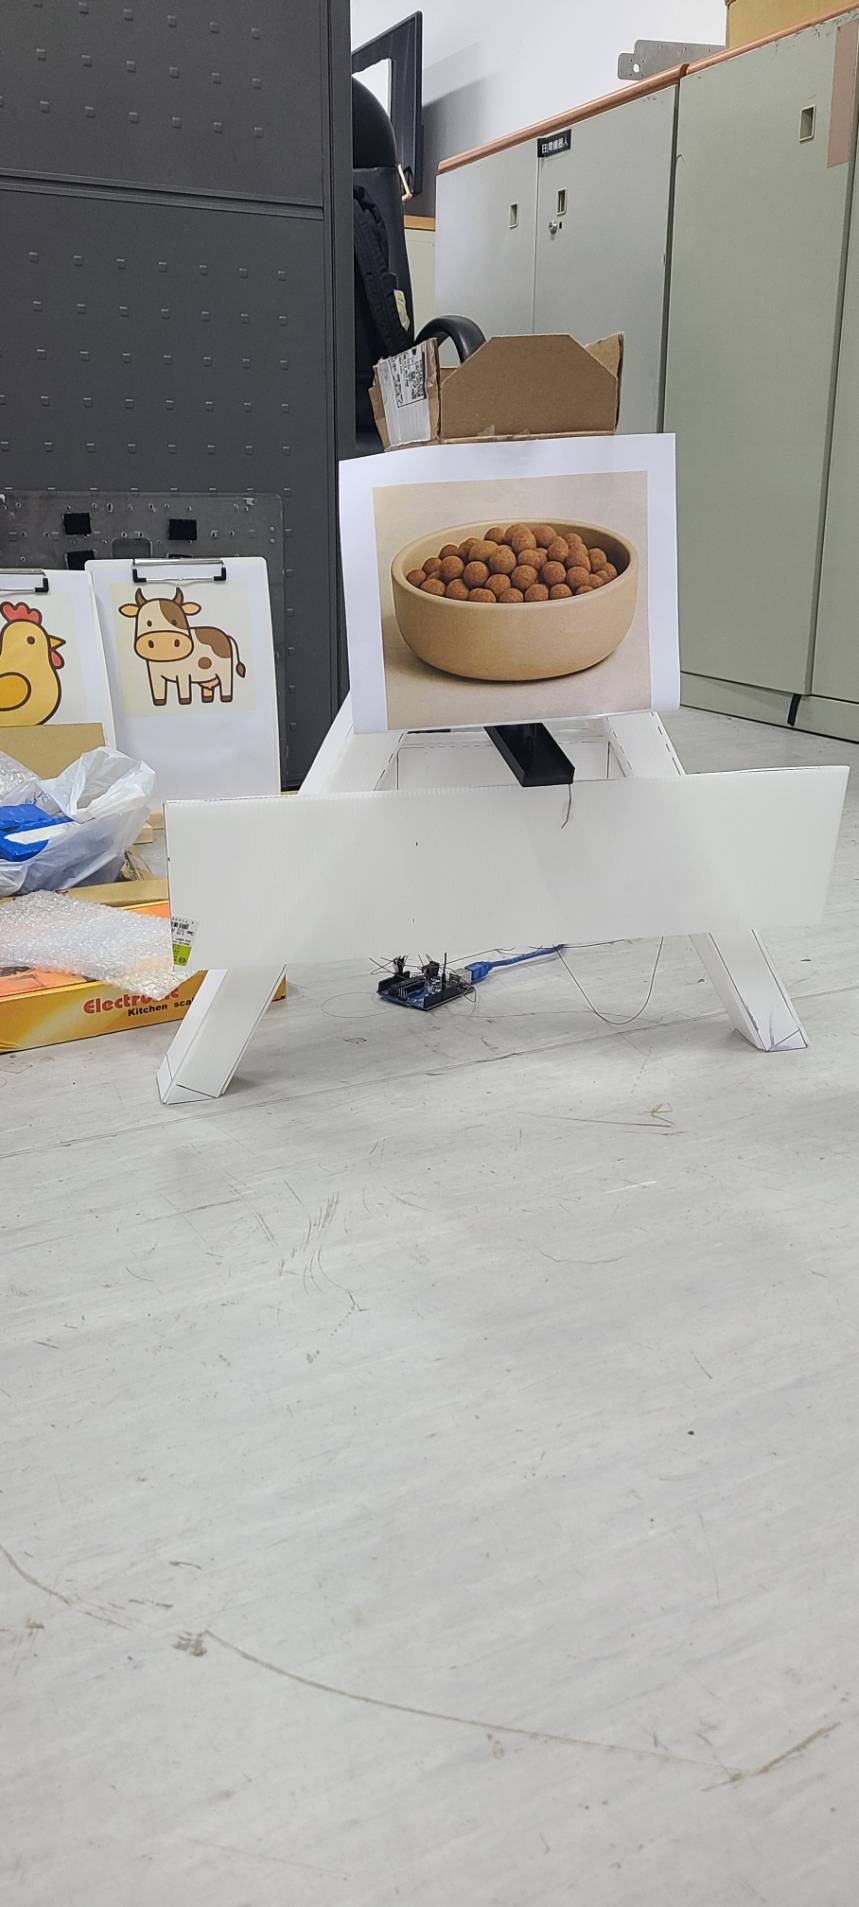chick: (4, 604, 80, 719)
